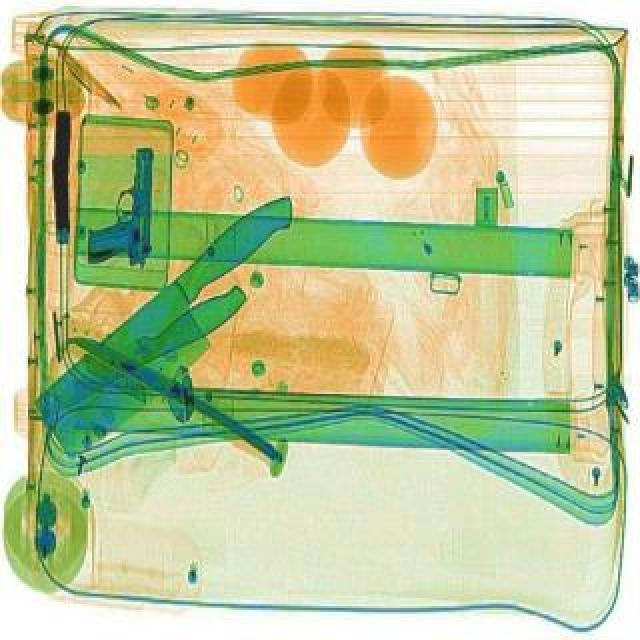gun: (84, 150, 156, 276), (48, 116, 76, 248)
knife: (18, 190, 334, 470), (22, 280, 254, 432), (62, 332, 290, 464)
